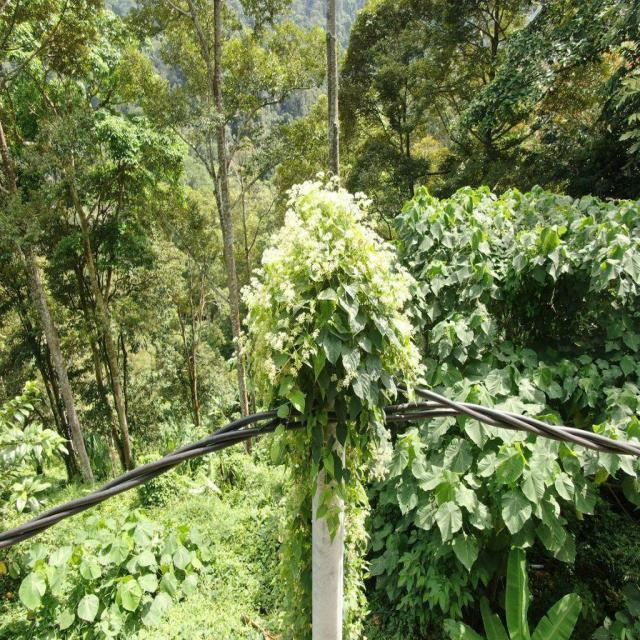critical vegetation: (234, 170, 427, 548)
